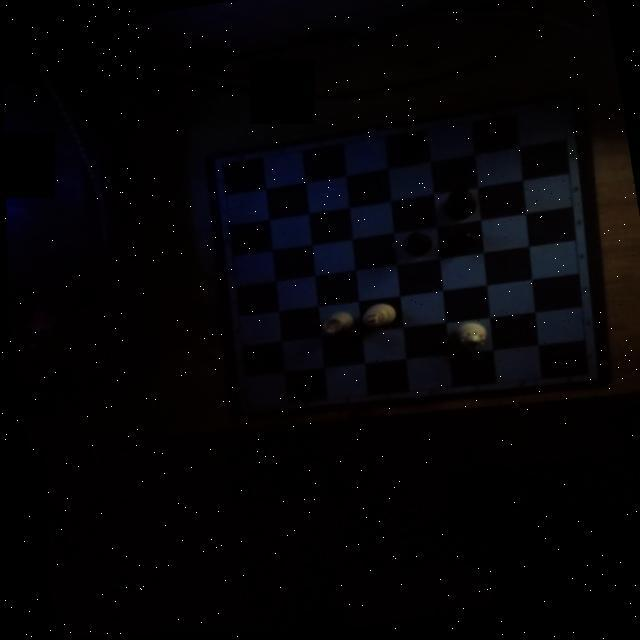chess-table-corners: (209, 153, 234, 178), (546, 100, 571, 122), (571, 368, 595, 388), (234, 398, 256, 418)
